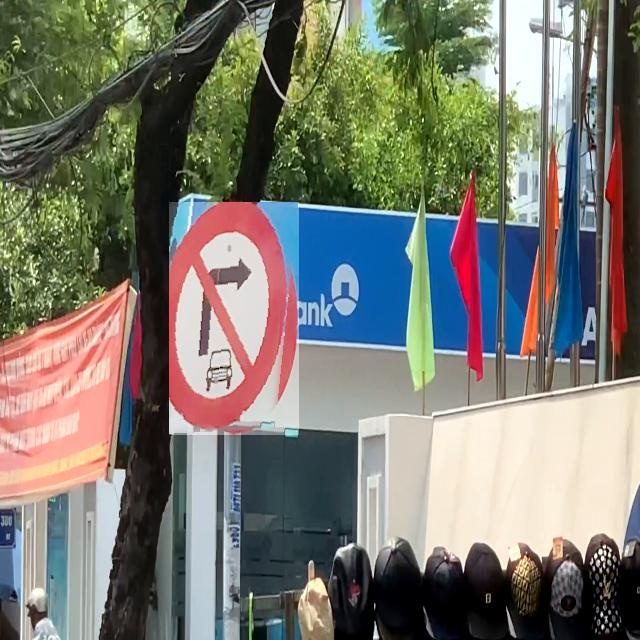bien_cam: (169, 202, 299, 435)
